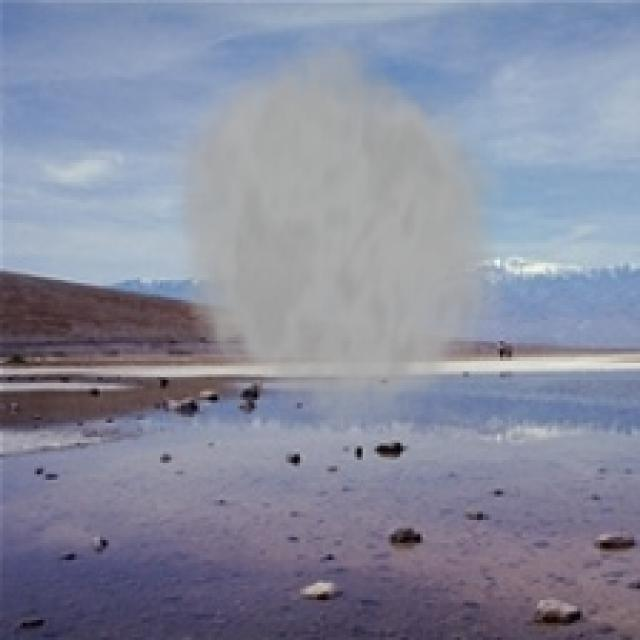smoke: (154, 26, 509, 448)
